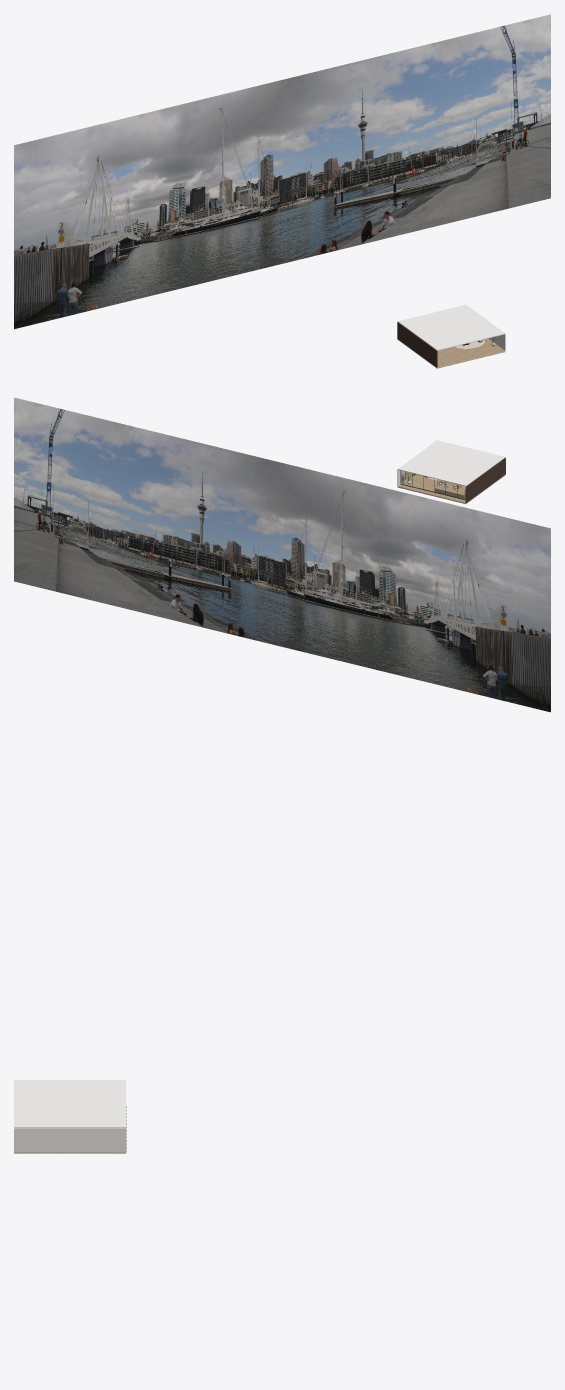
File: office.glb
3 renders of one model, top to bottom at view 1: azimuth 30°, elevation 25°; view 2: azimuth 150°, elevation 25°; view 3: azimuth 270°, elevation 25°, orthographic. The views are drawn at different scales.
Visible parts, largest first — view 1: Exterior.Auckland CC0 panorama, Ceiling, Left smoked oak wall; view 2: Exterior.Auckland CC0 panorama, Ceiling, Left smoked oak wall; view 3: Ceiling, Right plaster wall.
Part boxes in pixels (box(x1,y1,x2,y2)): Exterior.Auckland CC0 panorama: box(14, 14, 550, 329); Ceiling: box(397, 304, 505, 350); Left smoked oak wall: box(397, 322, 437, 367); Exterior.Auckland CC0 panorama: box(14, 397, 550, 712); Ceiling: box(397, 440, 505, 486); Left smoked oak wall: box(465, 457, 505, 502); Ceiling: box(14, 1080, 126, 1128); Right plaster wall: box(14, 1128, 126, 1152).
Bounding box in the file's own units: 110 × 36.02 × 67.
Materials: 19 (6 with a texture image).
